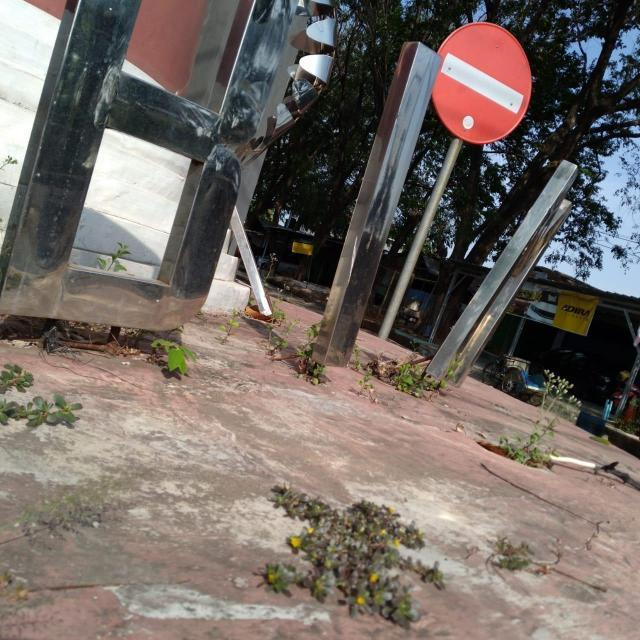traffic sign: (438, 23, 533, 146)
